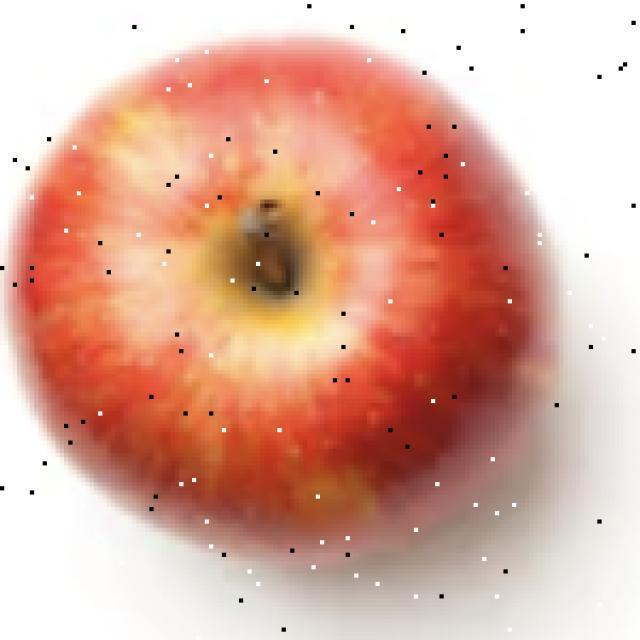Fresh Apple: (11, 34, 568, 574)
